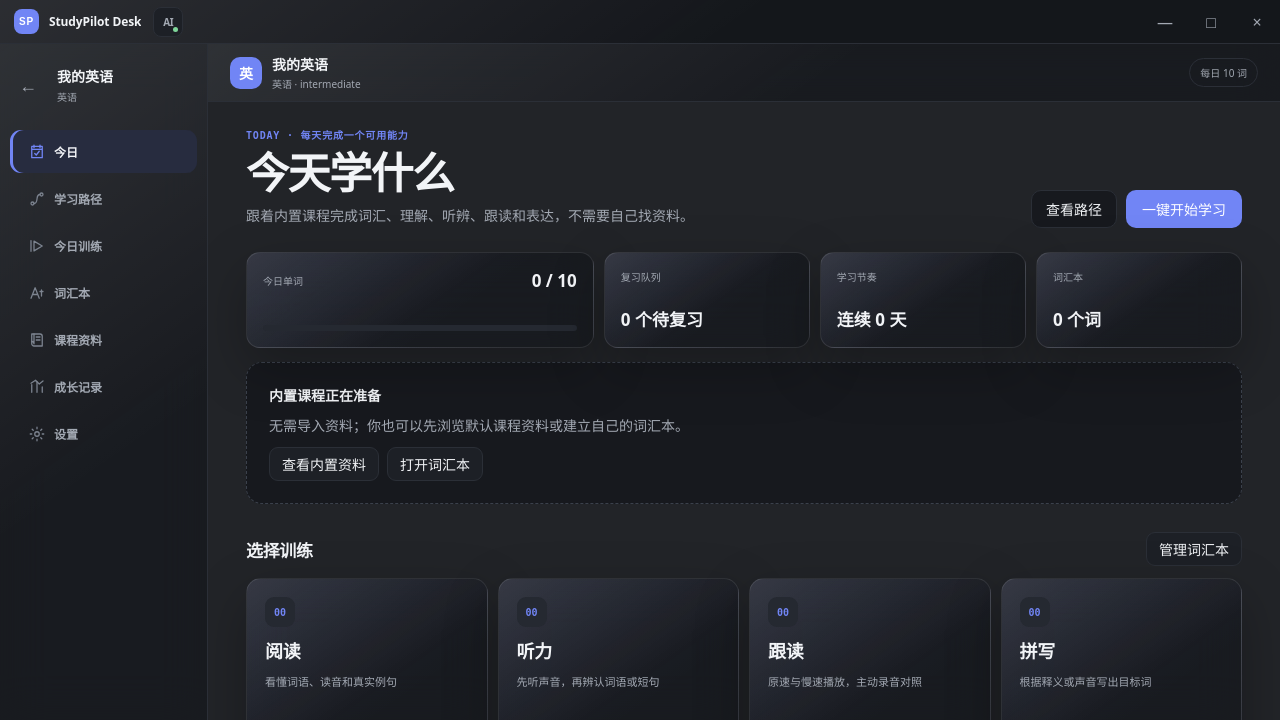
Test: a language course enters its independent UI and navigates to real language pages
This screenshot has width=1280, height=720.
Expected: the heading "今天学什么" is shown, [246,143,454,202]
Expected: the navigation bar named "语言课程导航" is shown, [10,130,197,455]
What coordinates should you click on to do the following:
click the button "今日训练"
I would click on:
 (104, 246)
Its box is [10,224,197,267].
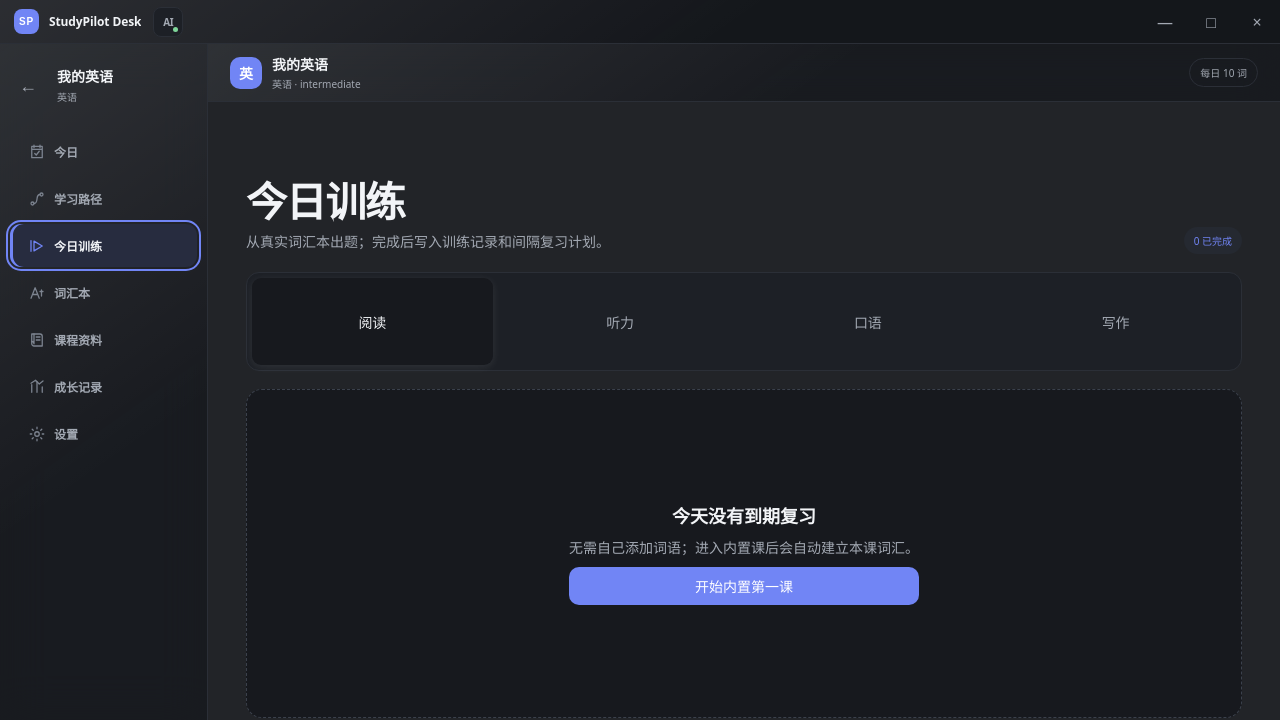
Expected: the heading "今日训练" is shown, [246,173,404,229]
What coordinates should you click on to do the following:
click the button "词汇本"
I would click on:
 (104, 292)
Its box is [10,271,197,314].
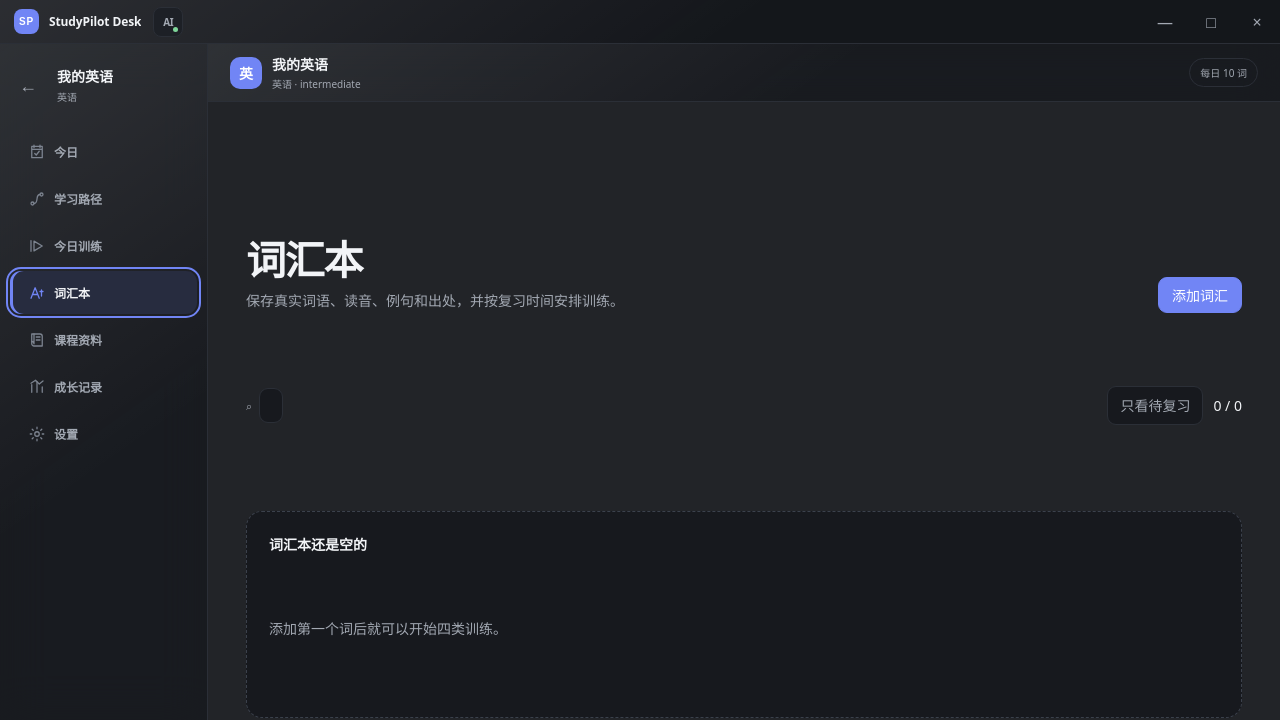
Expected: the heading "词汇本" is shown, [246,232,362,288]
